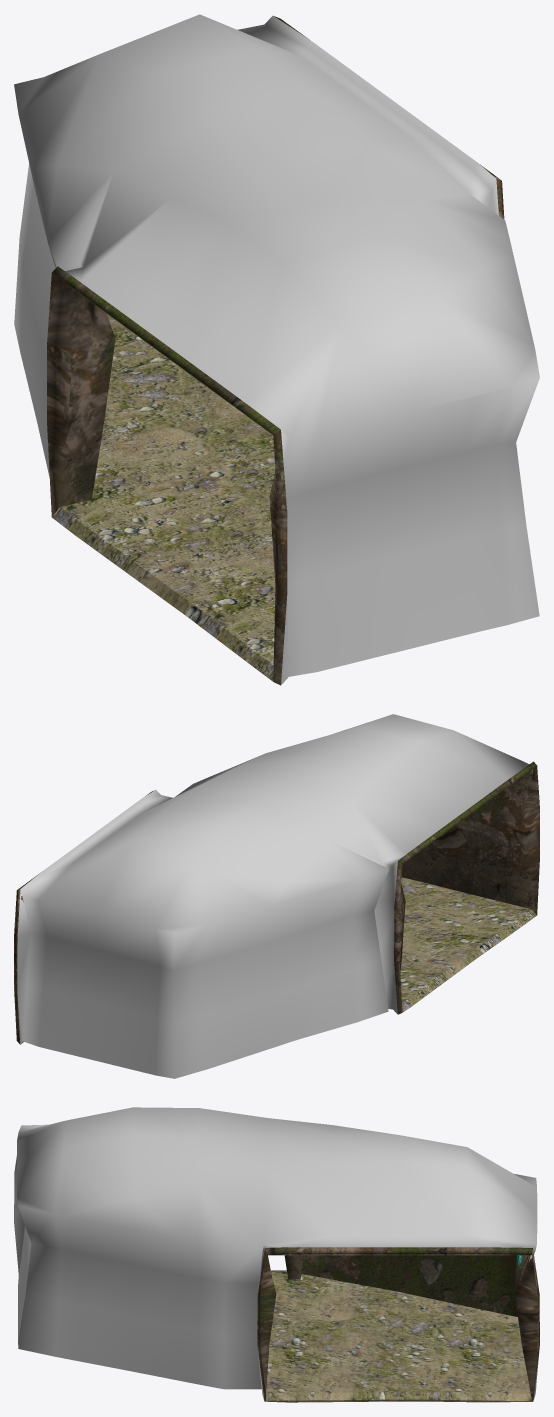
The model's file is passage_northern_grotto.obj.
3 views of the same model, one above another, from view 1: azimuth 30°, elevation 25°; view 2: azimuth 150°, elevation 25°; view 3: azimuth 270°, elevation 25° (orthographic). The views are drawn at different scales.
Parts seen in each view (by area): view 1: Passage_northern_grotto; view 2: Passage_northern_grotto; view 3: Passage_northern_grotto.
Part boxes in pixels (x1,y1,x2,y2): Passage_northern_grotto: (14,14,539,685); Passage_northern_grotto: (14,714,539,1078); Passage_northern_grotto: (14,1107,539,1402).
Size of the model in its own units: 432 by 322 by 759.
